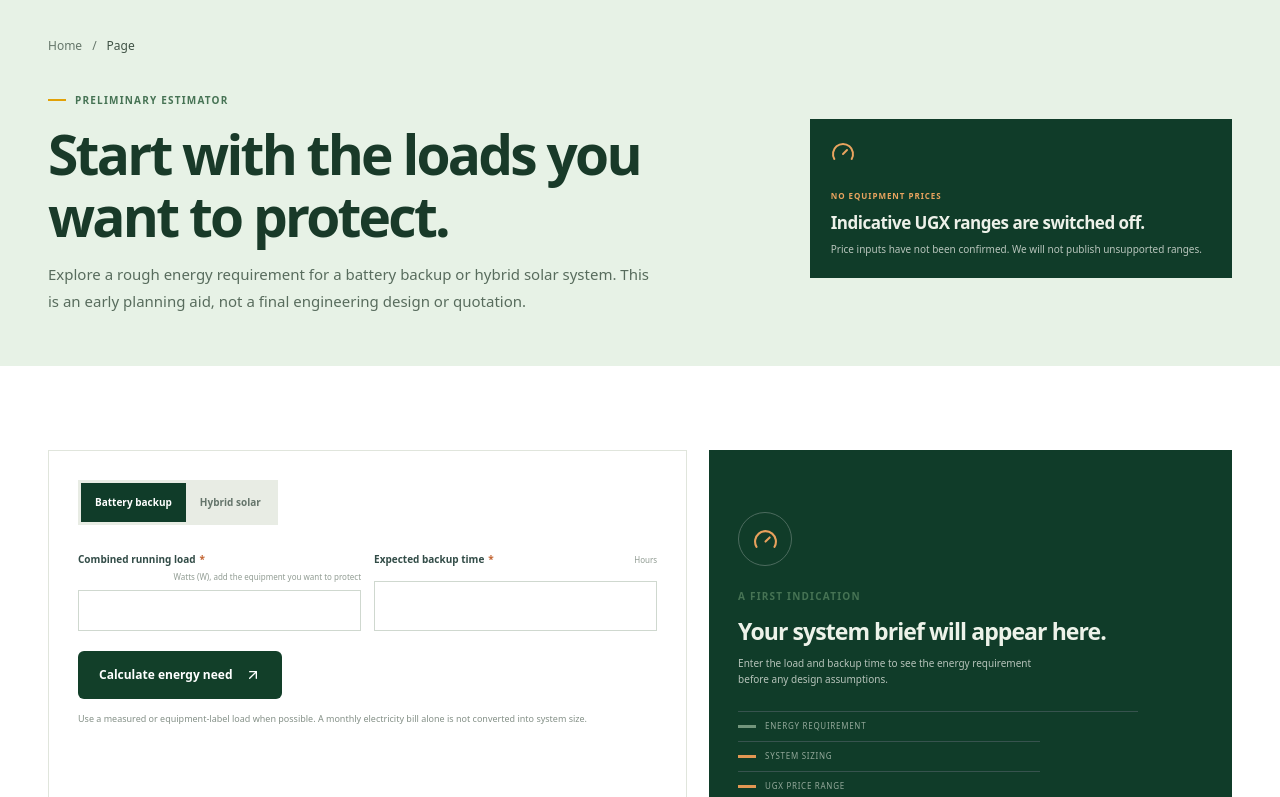
it: preliminary estimator › shows the energy requirement without publishing an unconfigured price
In the number field labelled "Combined running load": (220, 610) 78,590 -> 361,631, type "750"
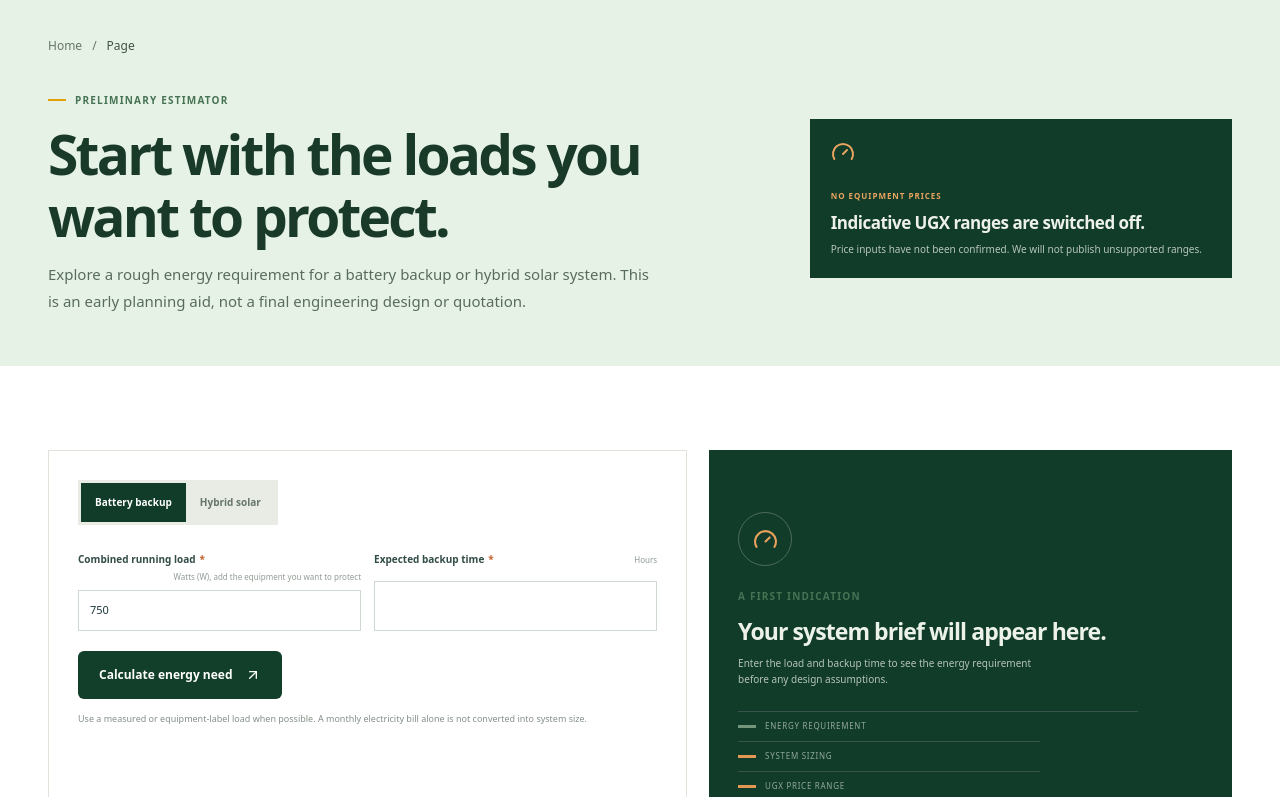
In the number field labelled "Expected backup time * Hours": (516, 606) 374,581 -> 657,631, type "4"
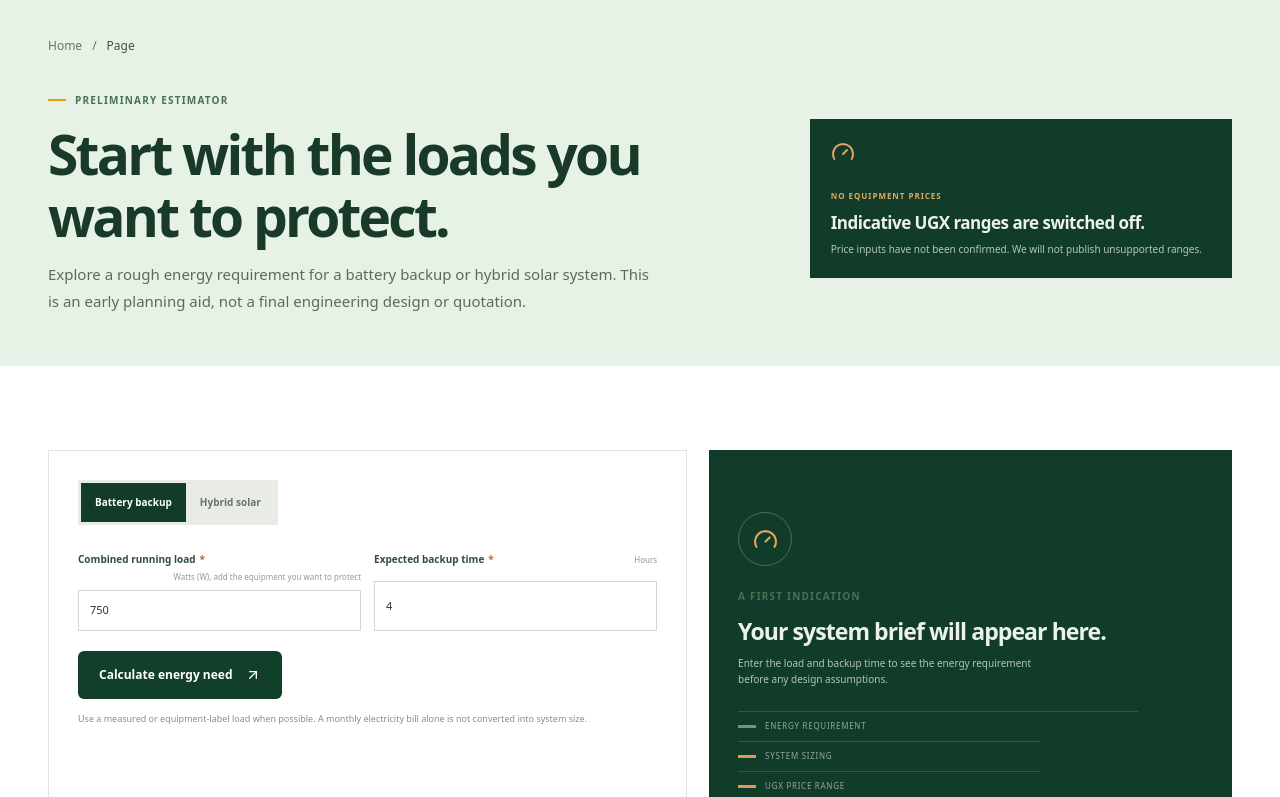
Click the button "Calculate energy need": (180, 675) 78,651 -> 282,699
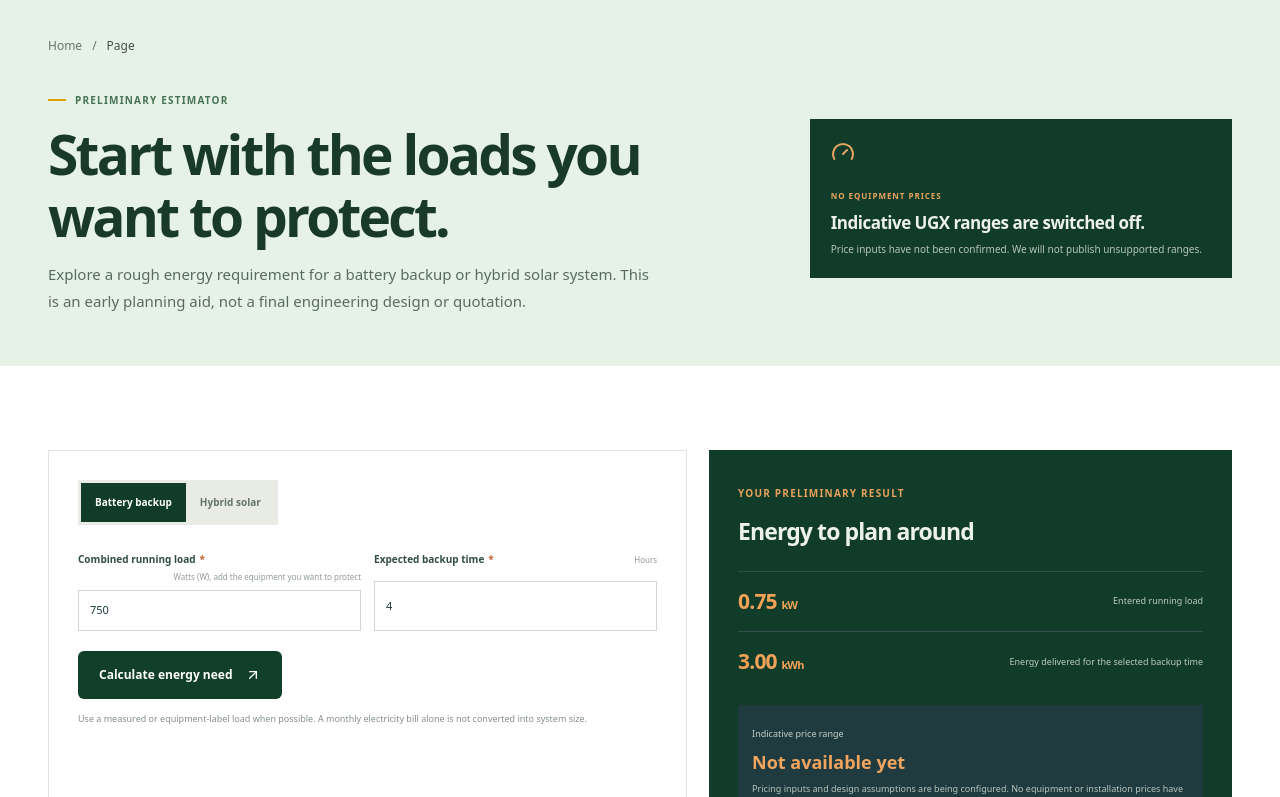
Now the text "3.00" is shown, box 738,647 -> 777,675
Now the text "Not available yet" is shown, box 752,750 -> 905,774
